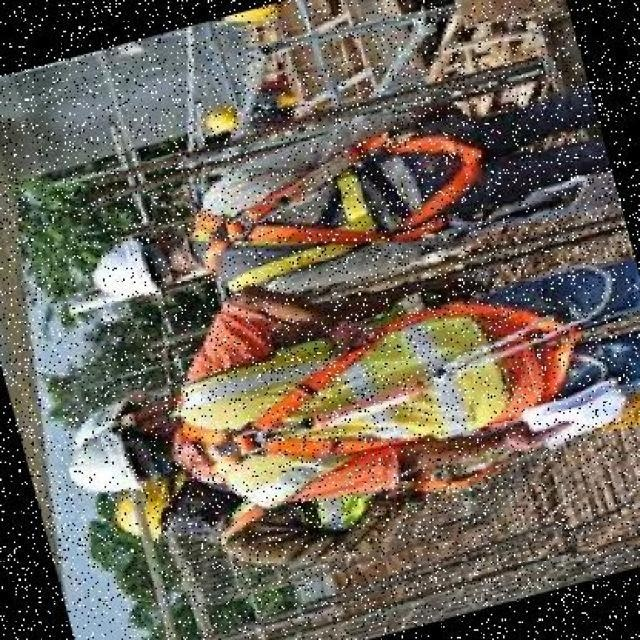Arnes_seguridad: (156, 269, 590, 509), (176, 100, 504, 299)
